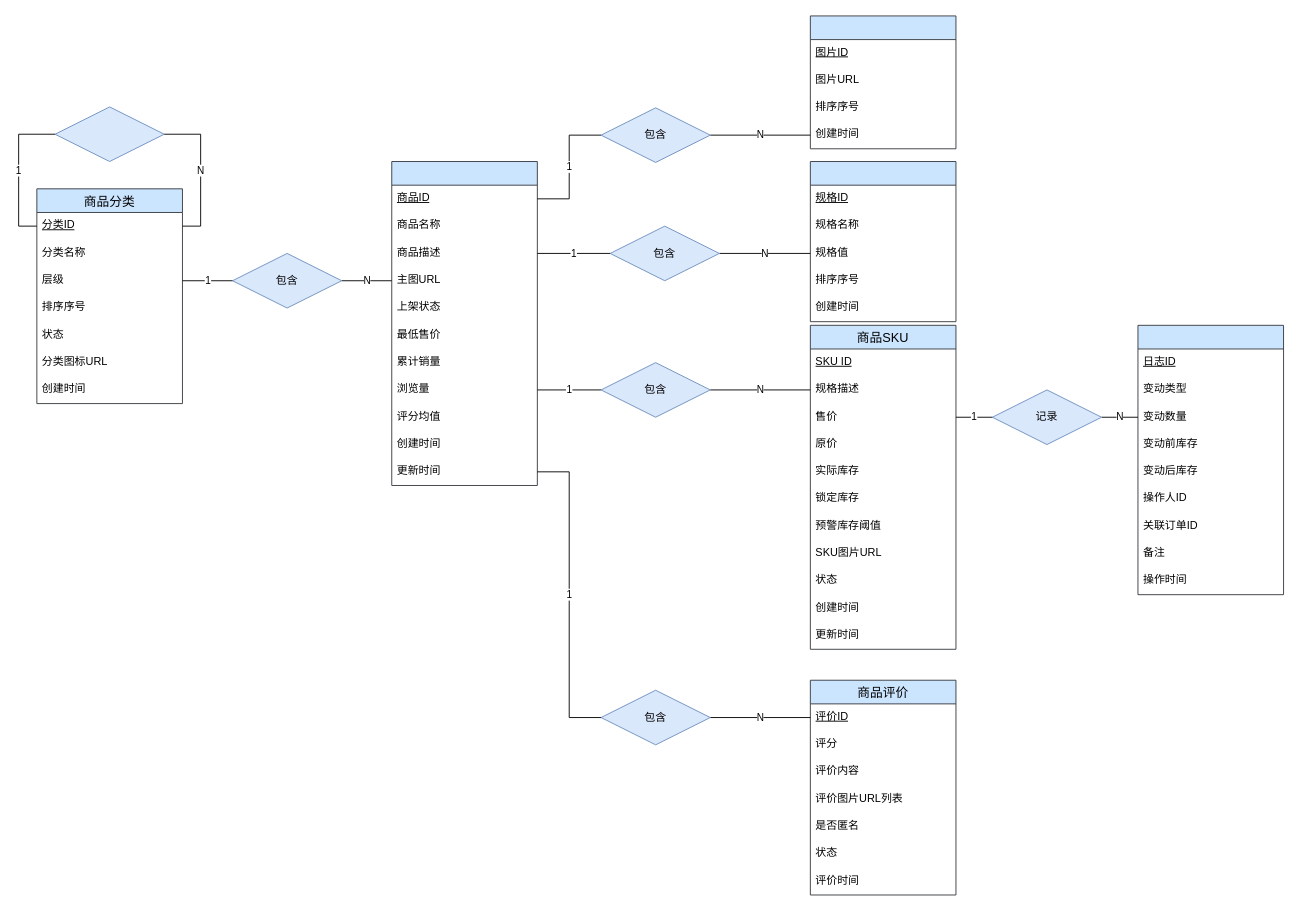
Image size: 1299x914. Some labels were removed from this diagram. Here are the shapes that lost their labels. From the top down, the box of each, then its label:
(809, 15, 956, 149): 商品图片
(54, 106, 164, 162): 子分类
(809, 161, 956, 322): 商品规格
(391, 161, 537, 485): 商品
(1137, 324, 1284, 595): 库存变动日志
